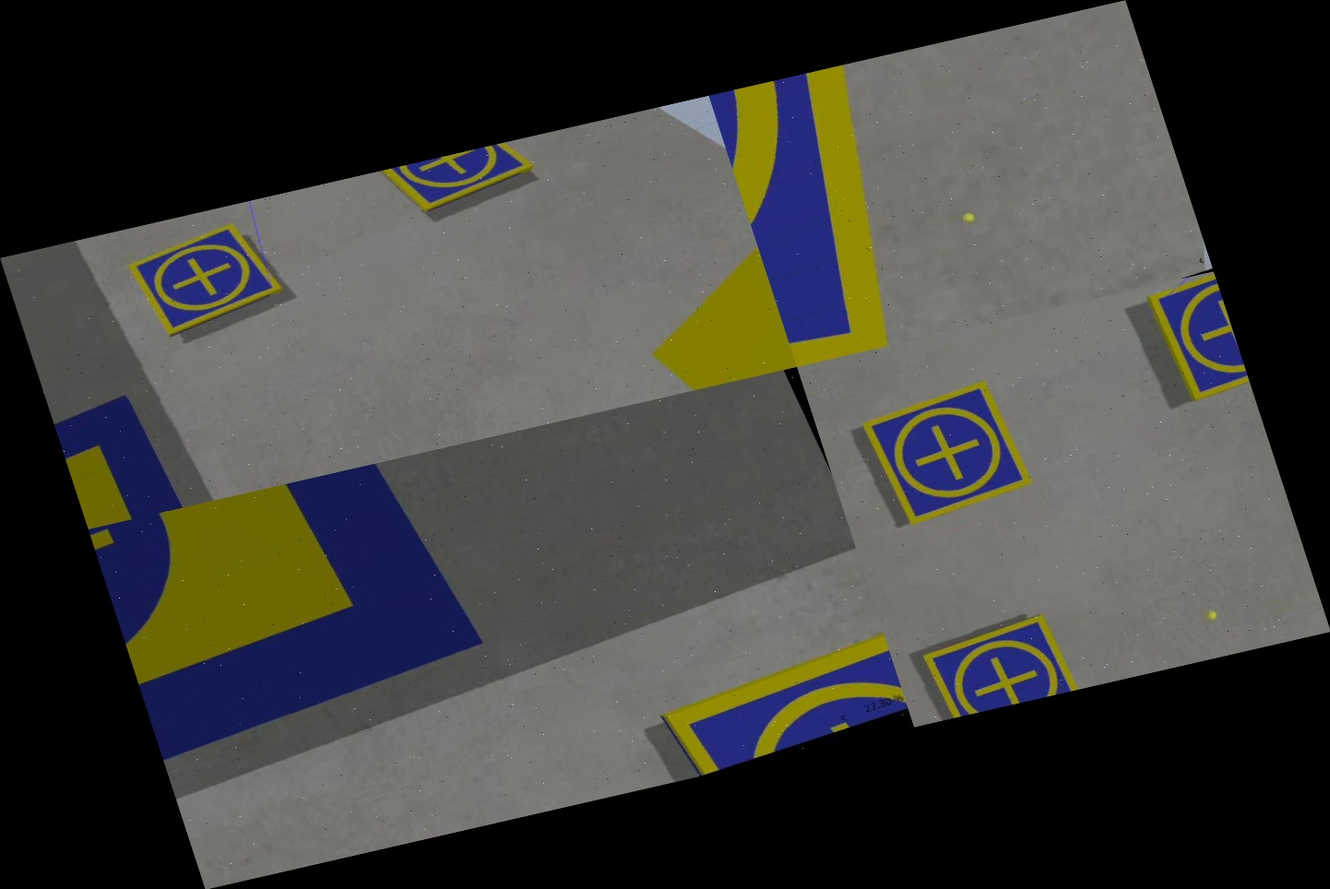large_base: (89, 451, 519, 809)
small_base: (708, 36, 1057, 366), (649, 633, 914, 780), (853, 374, 1040, 532), (121, 214, 291, 341), (917, 610, 1082, 719), (369, 136, 545, 225), (1140, 271, 1251, 403)
